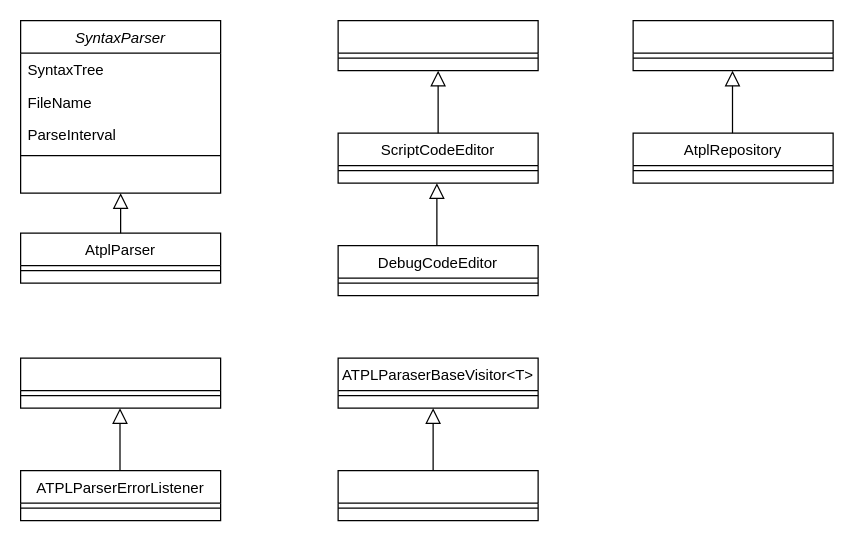
The diagram is 854 pixels wide and 541 high, and some of its shapes have lost their labels. Here are the shapes that lost their labels. From the top down, the centre of each, then its label:
At [437,45]: "TextEditor".
At [732,45]: "CodeCompletionRepository".
At [120,382]: "BaseErrorListener".
At [437,495]: "ATPLVisitor".
